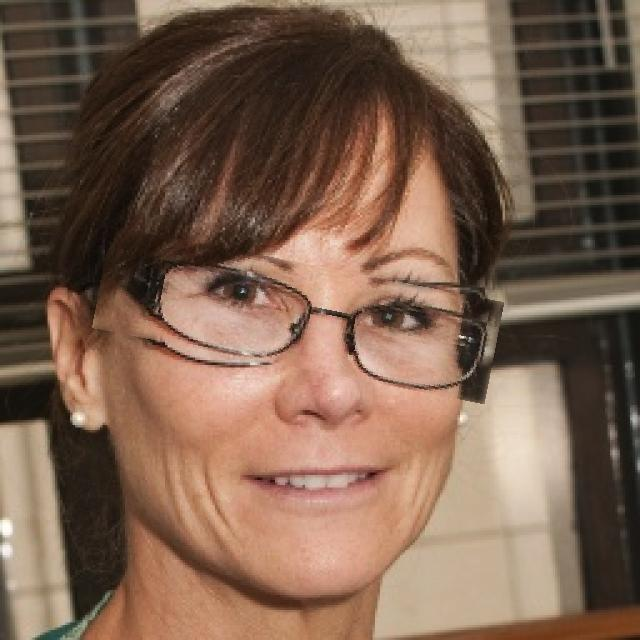glasses: (95, 245, 501, 386)
